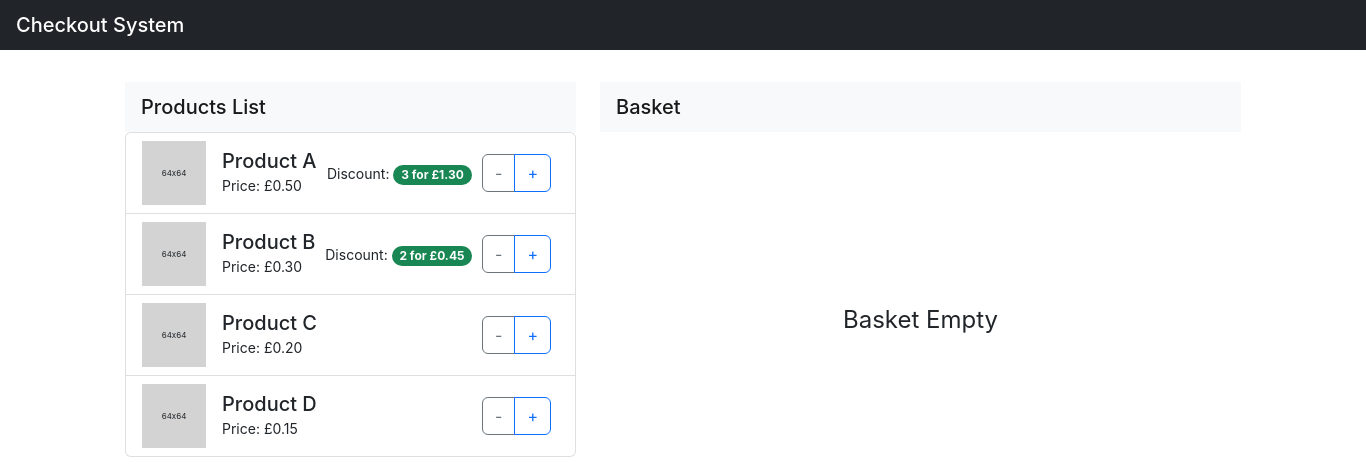
Scenario: Verify Product Discount in Basket
What coordinates should you click on to do the following:
click the button with class "btn-outline-primary" in the row of "£0.50"
I would click on:
 (533, 173)
Its box is [514, 154, 551, 192].
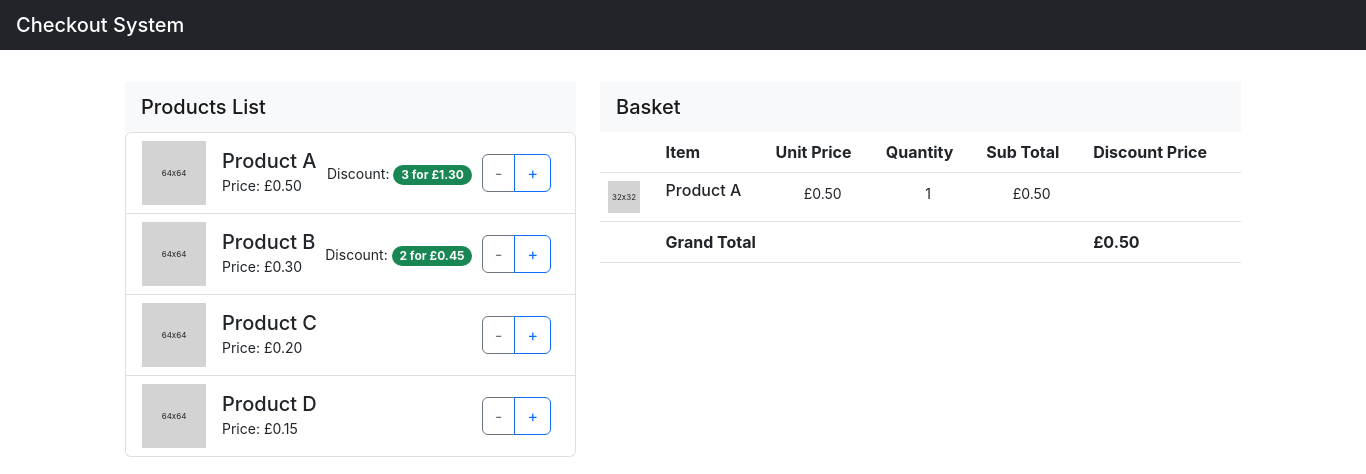
What coordinates should you click on to do the following:
click the button with class "btn-outline-primary" next to "£1.30"
I would click on:
 (533, 173)
Its box is [514, 154, 551, 192].
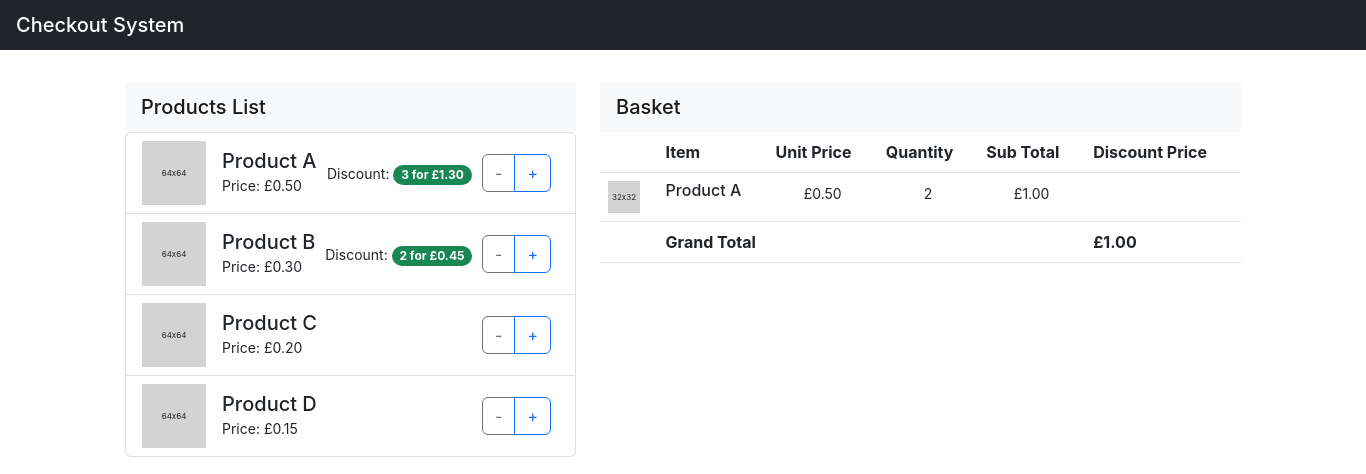
What coordinates should you click on to do the following:
click the button with class "btn-outline-primary" next to "£1.30"
I would click on:
 (533, 173)
Its box is [514, 154, 551, 192].
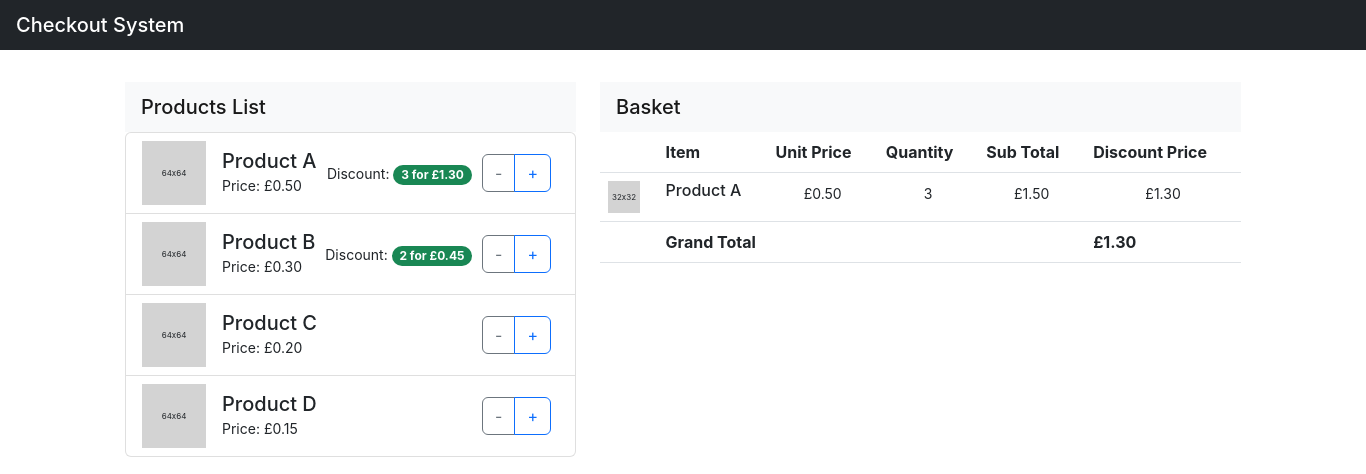
Expected: the cell "£1.30" is shown, [1085, 172, 1241, 222]
